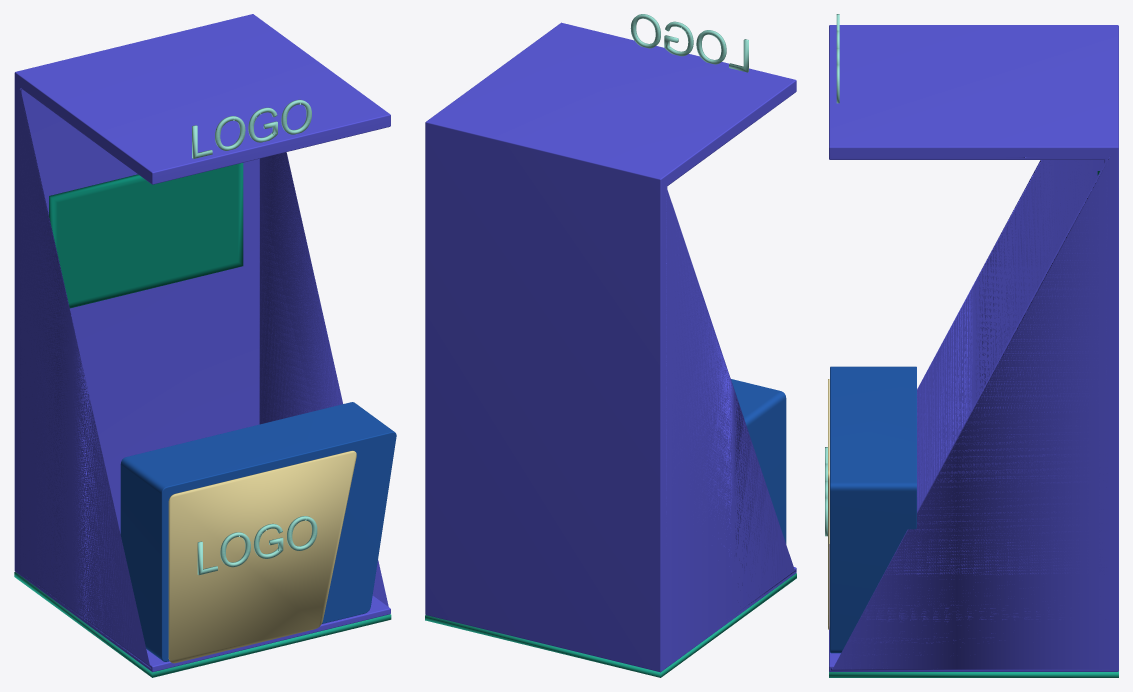
File: StandIzq.obj
The picture shows the model from 3 angles, left to right: view 1: azimuth 30°, elevation 25°; view 2: azimuth 150°, elevation 25°; view 3: azimuth 270°, elevation 25°; orthographic projection. The views are drawn at different scales.
Visible parts, largest first — view 1: Rectangle004, Box007, Box006, Box008, Box005, TextPlus001, TextPlus002; view 2: Rectangle004, Box006, Box005, TextPlus002; view 3: Rectangle004, Box006, Box005, Box007.
Boxes of the visible parts, x1,y1,x2,y2 form: Rectangle004: (14,14,390,672); Box007: (168,450,356,663); Box006: (120,402,396,661); Box008: (49,163,243,308); Box005: (14,572,391,677); TextPlus001: (197,516,317,575); TextPlus002: (192,99,311,158); Rectangle004: (425,22,796,672); Box006: (731,379,786,543); Box005: (425,573,796,677); TextPlus002: (630,14,748,72); Rectangle004: (829,25,1118,671); Box006: (830,366,916,653); Box005: (829,671,1118,677); Box007: (828,379,829,629).
Size of the model in its own units: 103 by 221 by 101.
